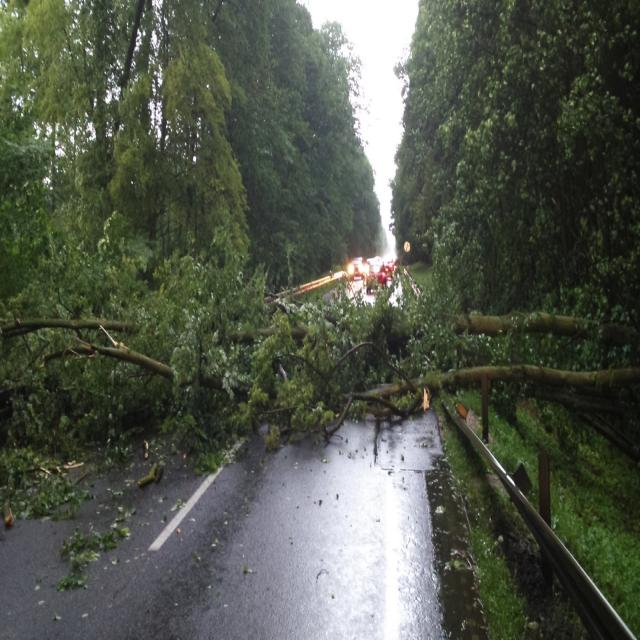fallen_tree: (0, 302, 639, 416)
